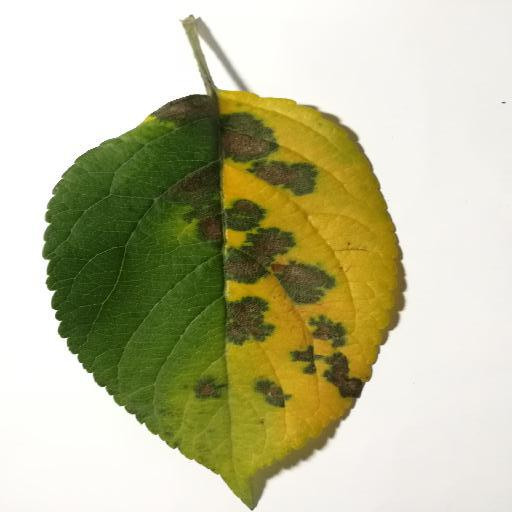Brown_Spot: (147, 99, 398, 415)
